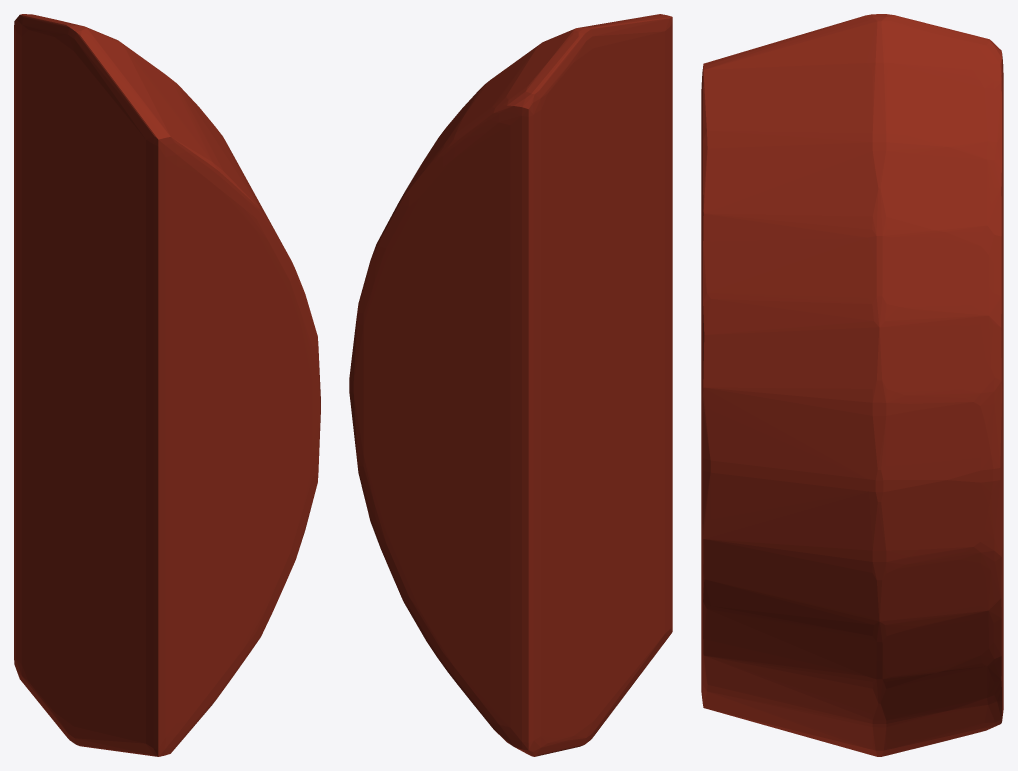
File: left_forearm_collision_part_15.obj
3 renders of one model, left to right at view 1: azimuth 30°, elevation 25°; view 2: azimuth 150°, elevation 25°; view 3: azimuth 270°, elevation 25°, orthographic. The views are drawn at different scales.
Size of the model in its own units: 39.34 by 129 by 48.06.
